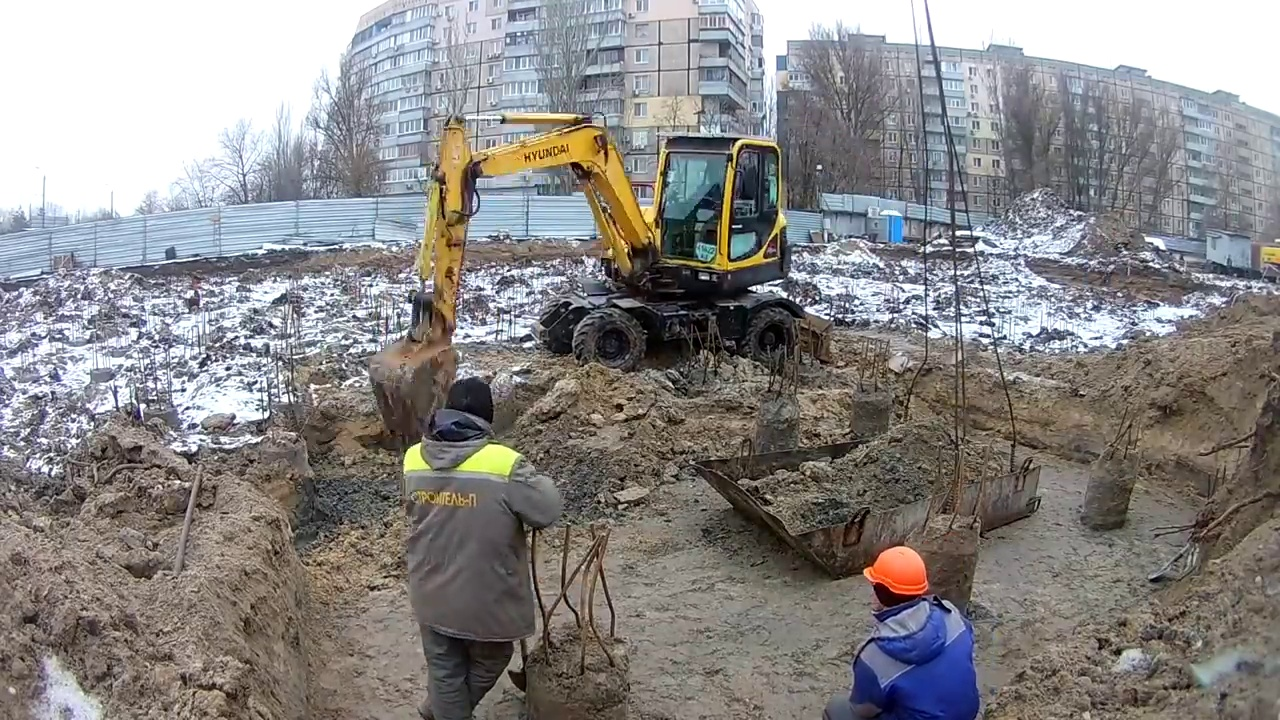helmet: (861, 545, 930, 597)
helmet-off: (443, 379, 494, 430)
helmet-on: (861, 545, 931, 610)
person: (403, 376, 560, 720), (820, 547, 981, 720)
